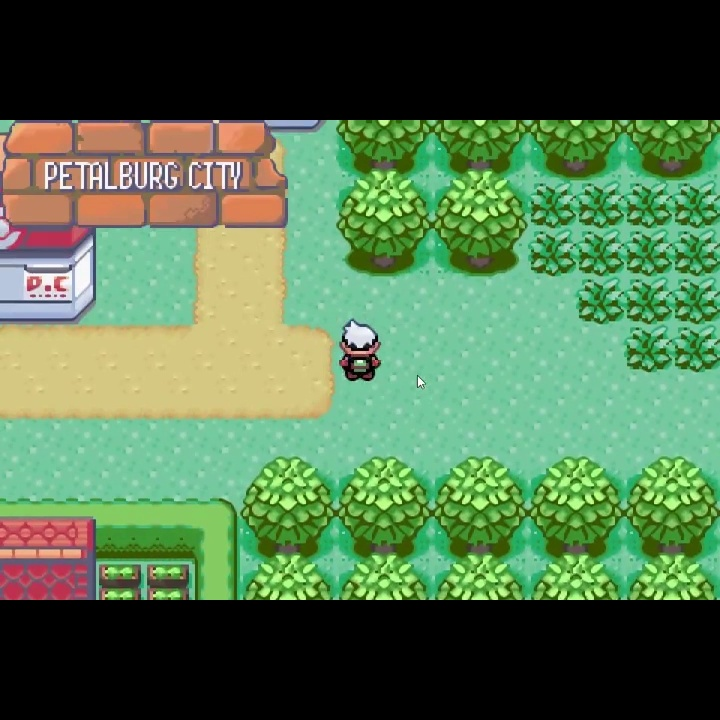grass: (626, 176, 673, 231), (576, 178, 625, 229), (674, 176, 719, 231), (528, 179, 577, 229), (576, 277, 625, 327), (624, 276, 673, 326), (576, 229, 626, 278), (624, 323, 673, 372), (625, 228, 673, 277), (528, 229, 576, 277), (674, 322, 720, 372), (673, 229, 720, 277), (674, 276, 720, 323)
npc: (334, 316, 384, 387)
pokecen: (1, 227, 97, 325)
wall: (335, 168, 433, 275), (434, 168, 527, 277), (432, 453, 529, 555), (624, 453, 720, 556), (240, 455, 337, 554), (529, 453, 623, 555), (338, 454, 431, 554), (625, 120, 720, 176), (528, 121, 624, 175), (335, 120, 434, 167), (435, 120, 528, 168), (433, 554, 529, 600), (624, 553, 720, 599), (241, 554, 339, 599), (529, 554, 624, 600), (340, 554, 432, 600)
